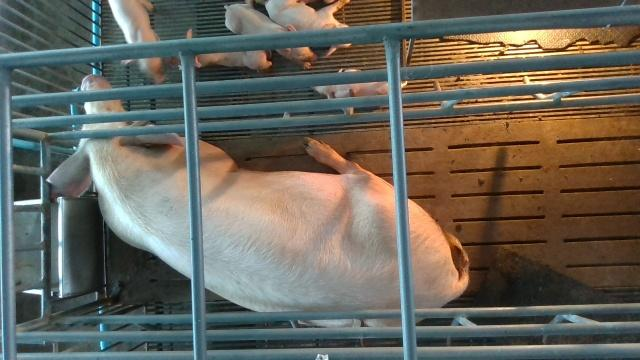piglet: (224, 3, 319, 69), (266, 0, 354, 56), (108, 0, 164, 84), (313, 69, 408, 116), (168, 30, 272, 70)
sow-sit: (47, 73, 469, 327)
